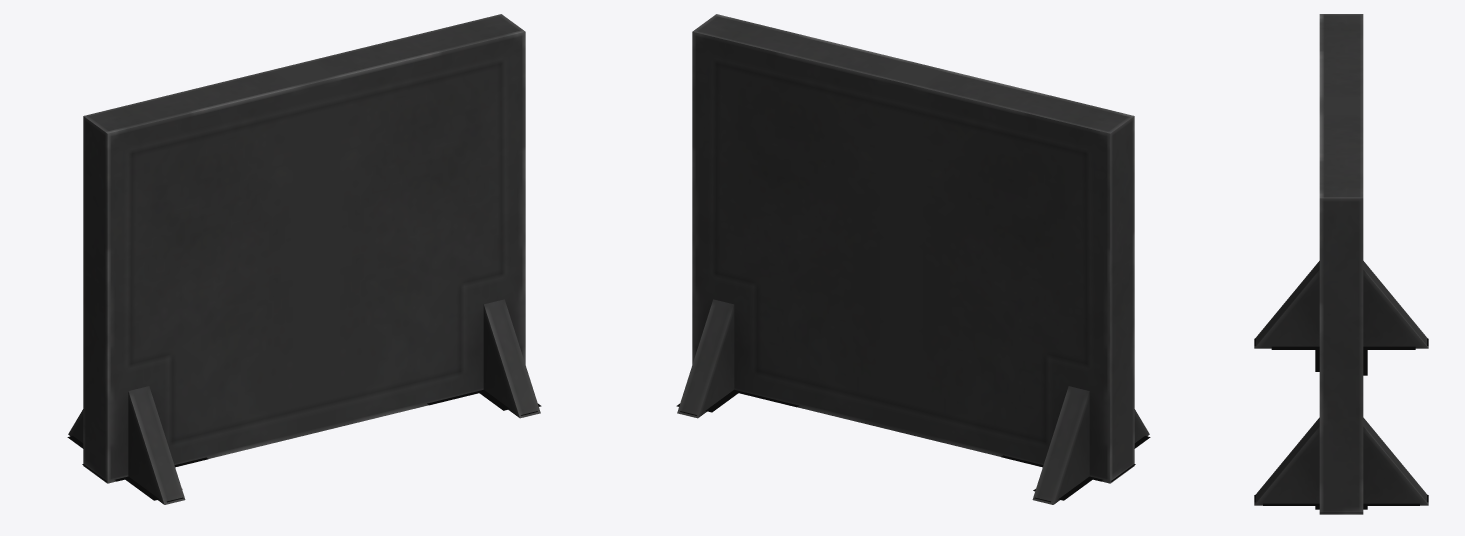
File: shelf1.obj
3 views of the same model, side by side, from view 1: azimuth 30°, elevation 25°; view 2: azimuth 150°, elevation 25°; view 3: azimuth 270°, elevation 25° (orthographic). The views are drawn at different scales.
Parts seen in each view (by area): view 1: shelf1, shelf1ao; view 2: shelf1, shelf1ao; view 3: shelf1, shelf1ao.
Part boxes in pixels (box(x1,y1,x2,y2)): shelf1: box(68, 14, 540, 504); shelf1ao: box(67, 389, 541, 502); shelf1: box(677, 14, 1149, 504); shelf1ao: box(676, 389, 1150, 502); shelf1: box(1254, 14, 1428, 514); shelf1ao: box(1254, 338, 1428, 513).
Bounding box in the file's own units: 0.275 × 0.2 × 0.125.
2 materials, 2 textured.
